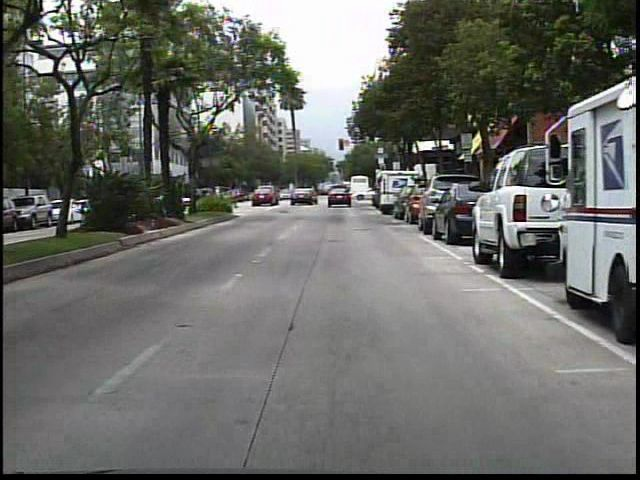person: (331, 181, 347, 204), (308, 184, 321, 205)
